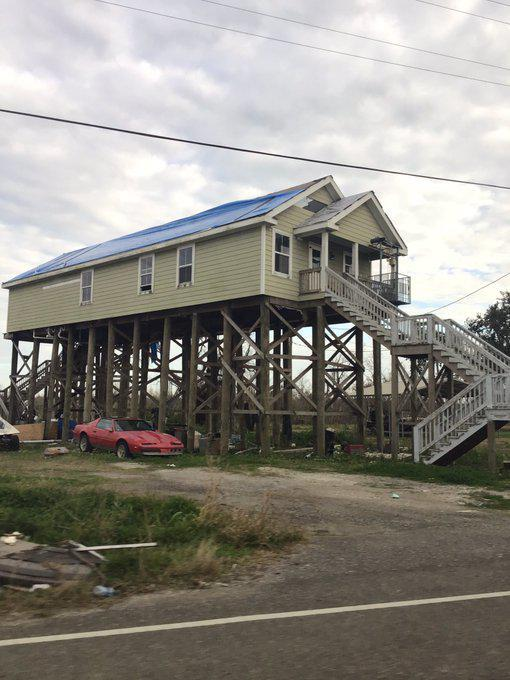minor: (13, 184, 510, 460)
